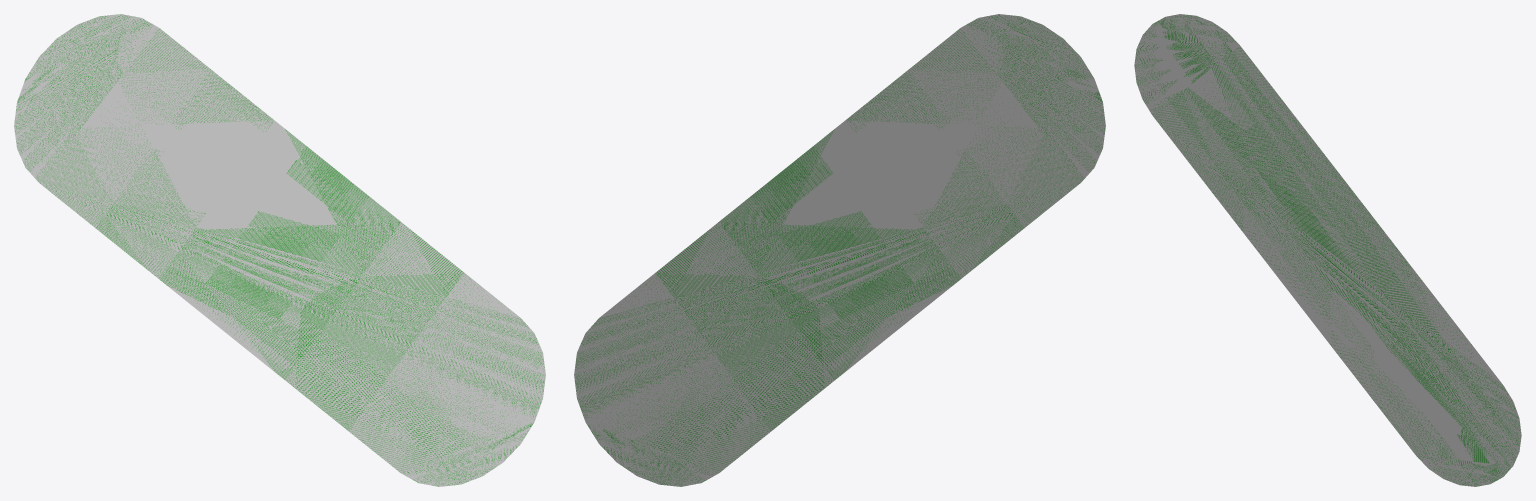
File: original-20.obj
The picture shows the model from 3 angles, left to right: view 1: azimuth 30°, elevation 25°; view 2: azimuth 150°, elevation 25°; view 3: azimuth 330°, elevation 25°; orthographic projection. The views are drawn at different scales.
Visible parts, largest first — view 1: 3dw.7bdffa69c49eb1d7bf653fdedcac4c5b#4/Model/mesh9/mesh9-geometr; view 2: 3dw.7bdffa69c49eb1d7bf653fdedcac4c5b#4/Model/mesh9/mesh9-geometr; view 3: 3dw.7bdffa69c49eb1d7bf653fdedcac4c5b#4/Model/mesh9/mesh9-geometr.
Boxes of the visible parts, x1,y1,x2,y2 form: 3dw.7bdffa69c49eb1d7bf653fdedcac4c5b#4/Model/mesh9/mesh9-geometr: [14, 14, 545, 486]; 3dw.7bdffa69c49eb1d7bf653fdedcac4c5b#4/Model/mesh9/mesh9-geometr: [574, 14, 1105, 486]; 3dw.7bdffa69c49eb1d7bf653fdedcac4c5b#4/Model/mesh9/mesh9-geometr: [1134, 14, 1521, 486].
Bounding box in the file's own units: 0.1355 × 0.1355 × 0.
